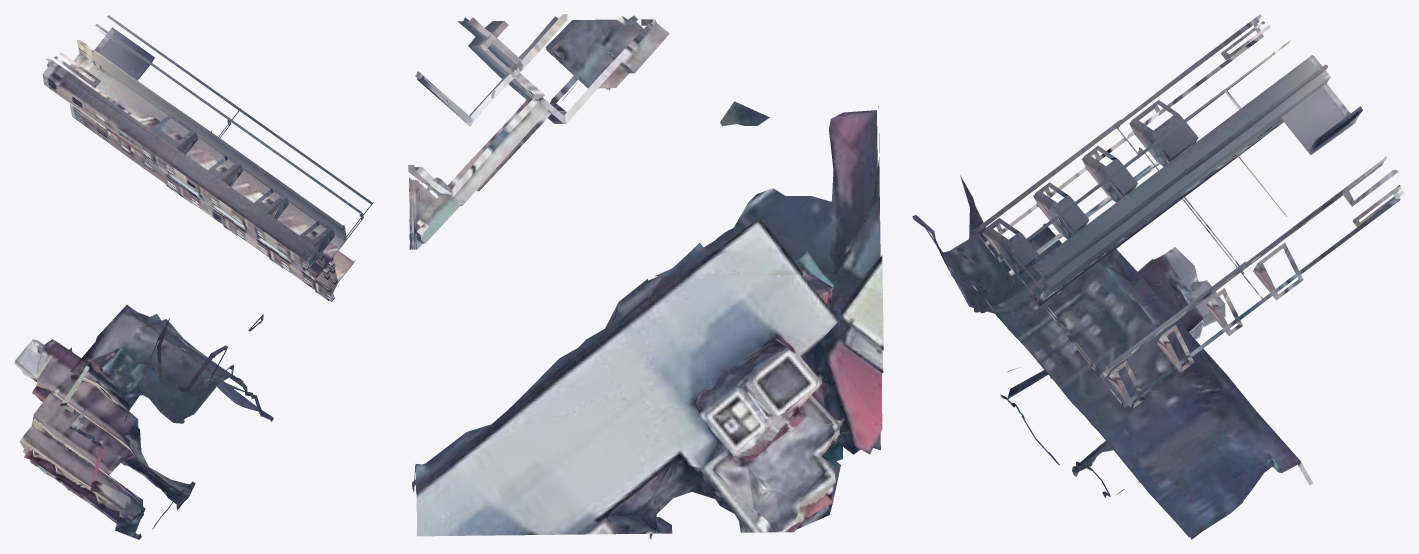
3 views of the same model, side by side, from view 1: azimuth 30°, elevation 25°; view 2: azimuth 150°, elevation 25°; view 3: azimuth 270°, elevation 25° (orthographic). The views are drawn at different scales.
Bounding box in the file's own units: 39.81 × 50.43 × 49.58.
Materials: 2 (2 with a texture image).
